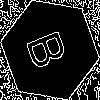B: (25, 25, 77, 72)
